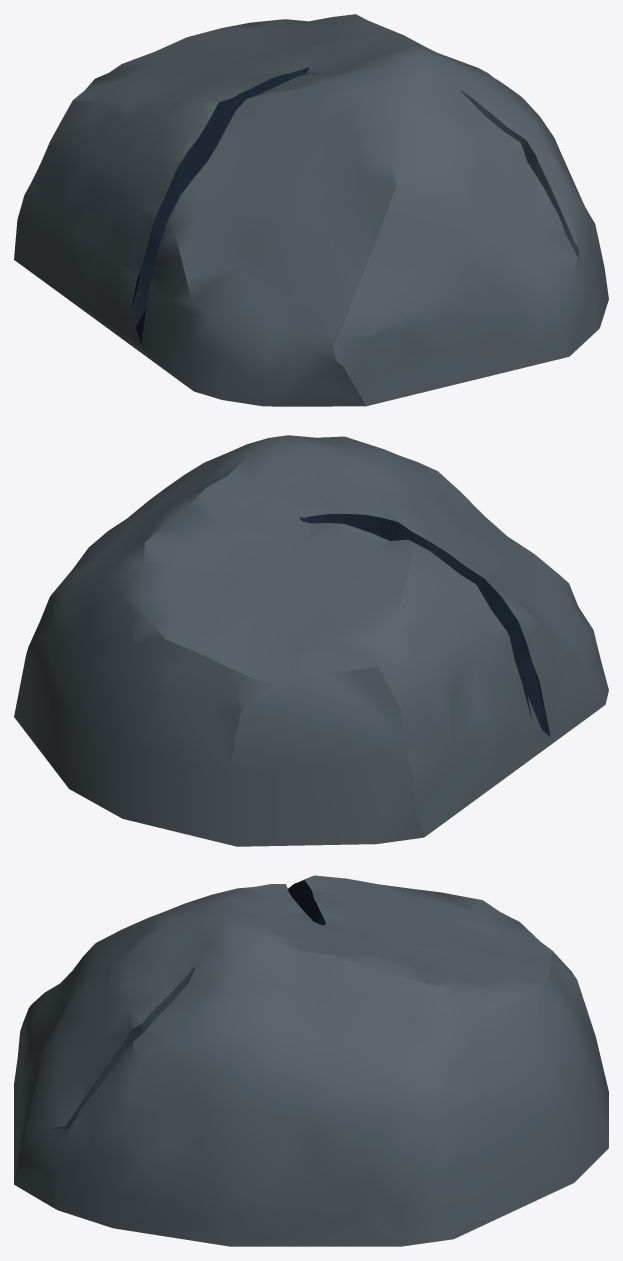
File: pebble_a.glb
3 views of the same model, one above another, from view 1: azimuth 30°, elevation 25°; view 2: azimuth 150°, elevation 25°; view 3: azimuth 270°, elevation 25° (orthographic).
Visible parts, largest first — view 1: pebble_a; view 2: pebble_a; view 3: pebble_a.
Boxes of the visible parts, box(x1,y1,x2,y2) form: pebble_a: box(14, 14, 608, 406); pebble_a: box(14, 435, 608, 846); pebble_a: box(14, 875, 608, 1246).
Bounding box in the file's own units: 12 × 6.1 × 13.8.
